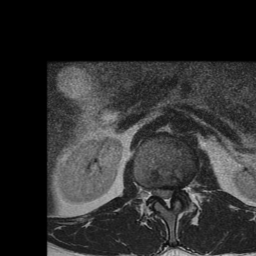CCS_normal: (164, 182, 171, 214)
LFS_severe_stenosis: (177, 177, 184, 202)
LLS_severe_stenosis: (170, 180, 177, 203)
RFS_normal: (149, 180, 157, 202)
RLS_normal: (157, 180, 164, 205)
